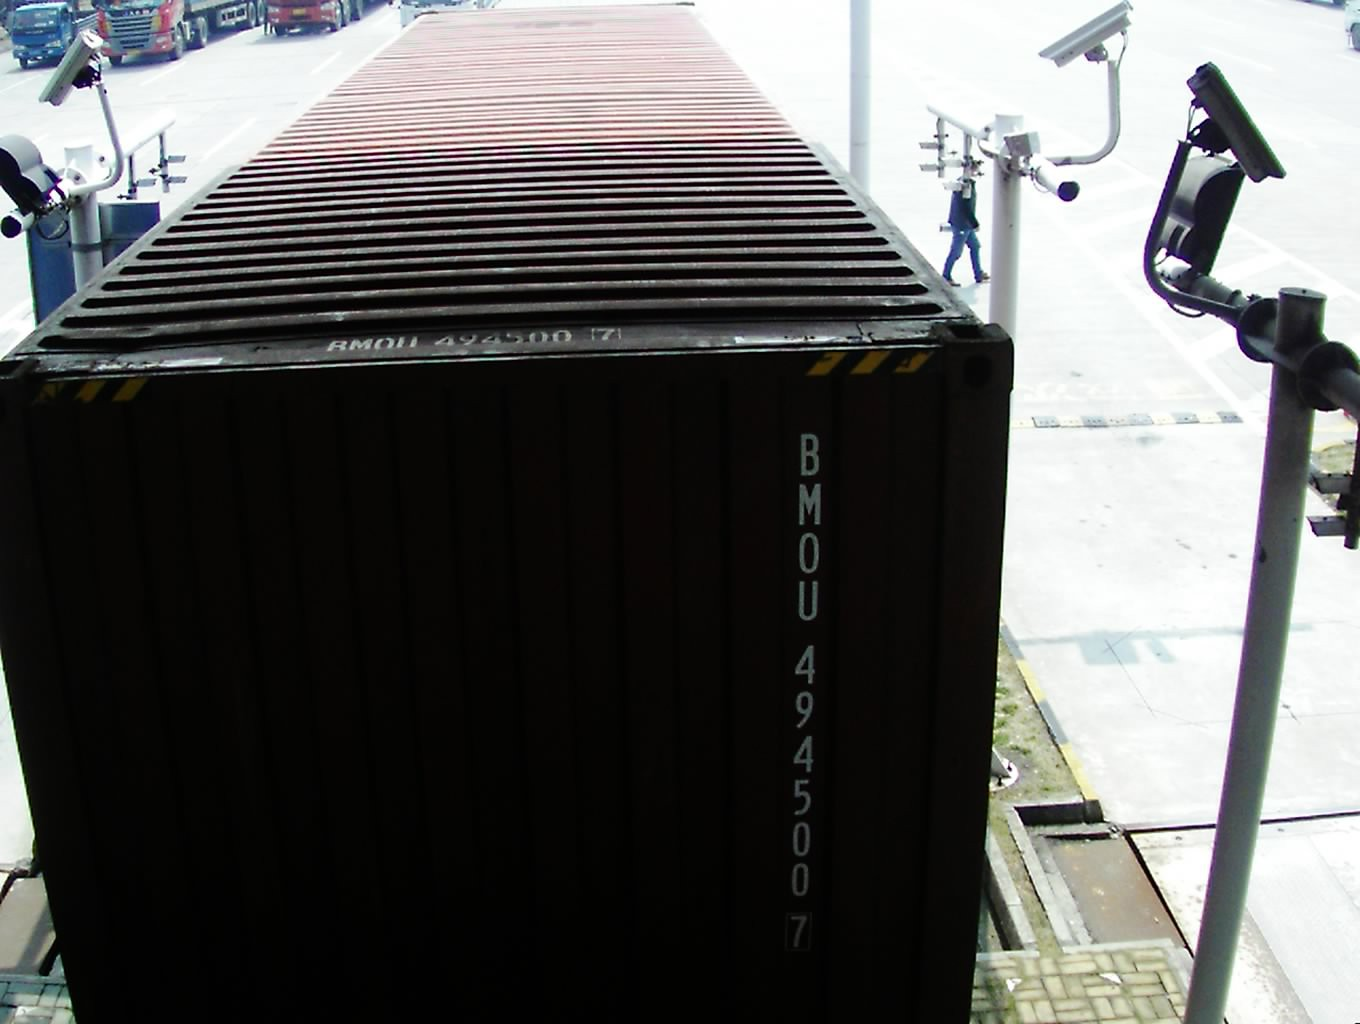words: (783, 421, 830, 959)
